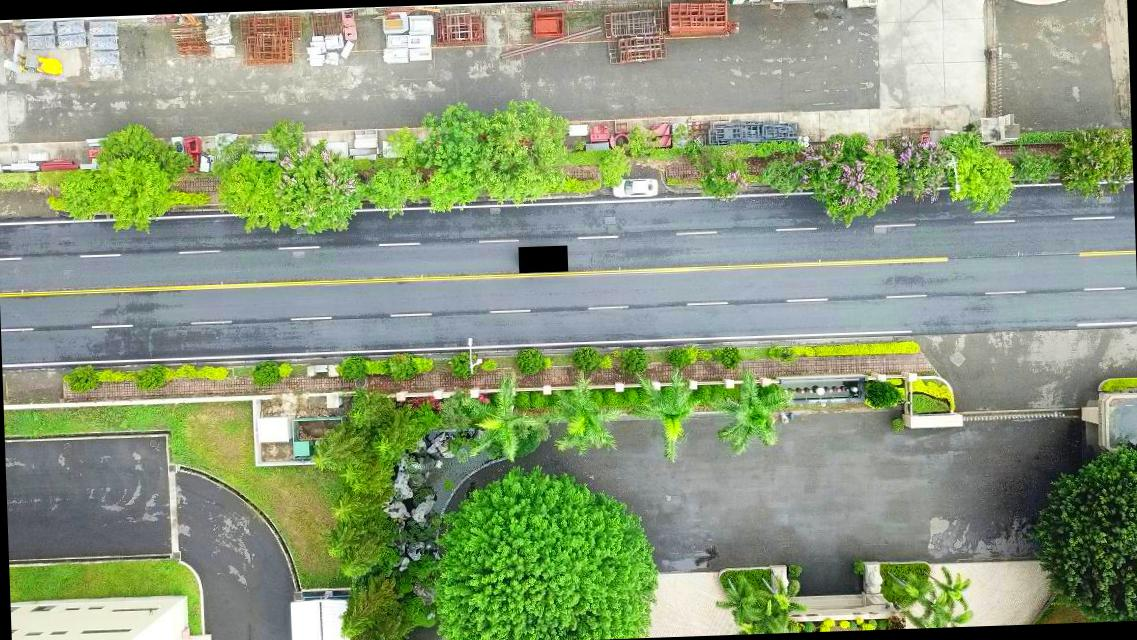vehicle: (610, 174, 659, 200)
